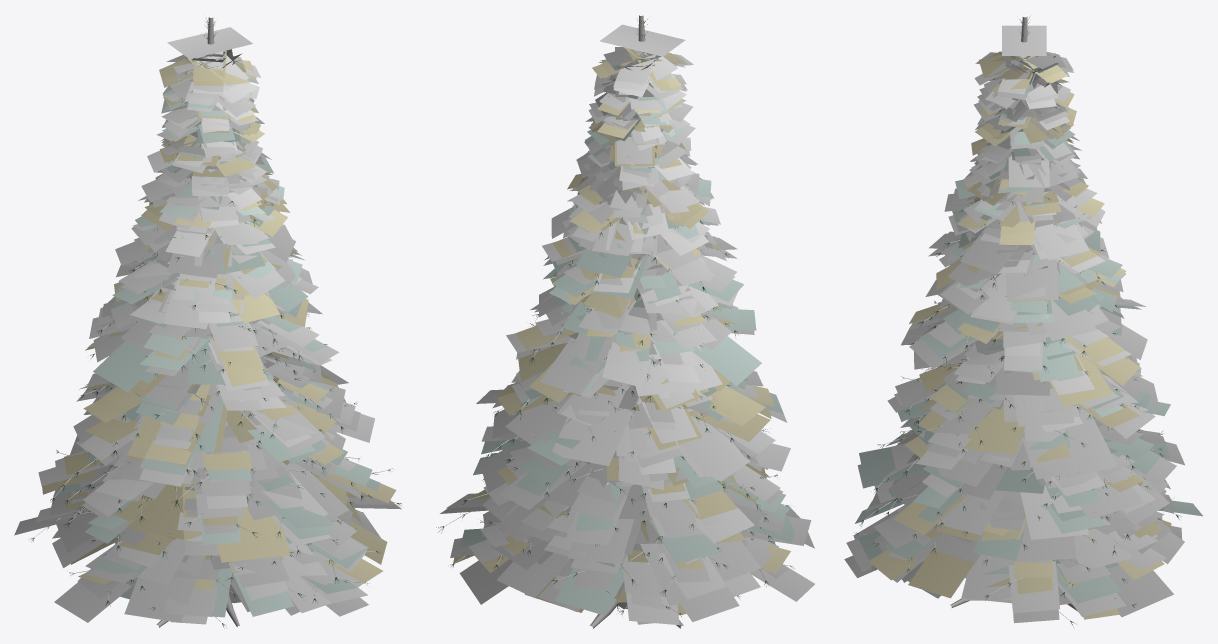
Rendered from tree-pine-ultra.lod0.glb.
3 views of the same model, side by side, from view 1: azimuth 30°, elevation 25°; view 2: azimuth 150°, elevation 25°; view 3: azimuth 270°, elevation 25° (orthographic). The views are drawn at different scales.
Parts seen in each view (by area): view 1: tree-pine-ultra; view 2: tree-pine-ultra; view 3: tree-pine-ultra.
Boxes of the visible parts, box(x1,y1,x2,y2) form: tree-pine-ultra: box(14, 17, 401, 628); tree-pine-ultra: box(436, 15, 814, 628); tree-pine-ultra: box(844, 16, 1202, 627).
Size of the model in its own units: 2.3 by 3.72 by 2.16.
